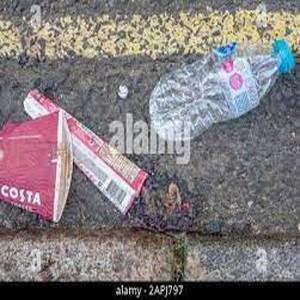Plastic: (147, 29, 296, 145)
